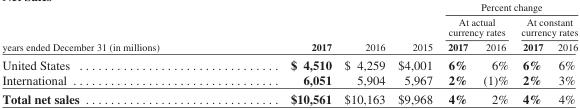table: (1, 0, 577, 105)
table column: (1, 0, 224, 105), (224, 0, 337, 105), (337, 0, 390, 105), (390, 0, 439, 105), (474, 0, 514, 105), (439, 0, 474, 105), (514, 0, 549, 105), (549, 0, 577, 105)
table column header: (1, 0, 577, 54)
table row: (1, 13, 577, 38), (1, 54, 577, 72), (1, 72, 577, 89), (1, 38, 577, 54), (1, 89, 577, 105), (1, 0, 577, 13)
table spanning cell: (1, 0, 224, 54), (224, 0, 337, 54), (337, 0, 390, 54), (390, 0, 439, 54), (439, 13, 514, 38), (439, 0, 577, 13), (514, 13, 577, 38)
